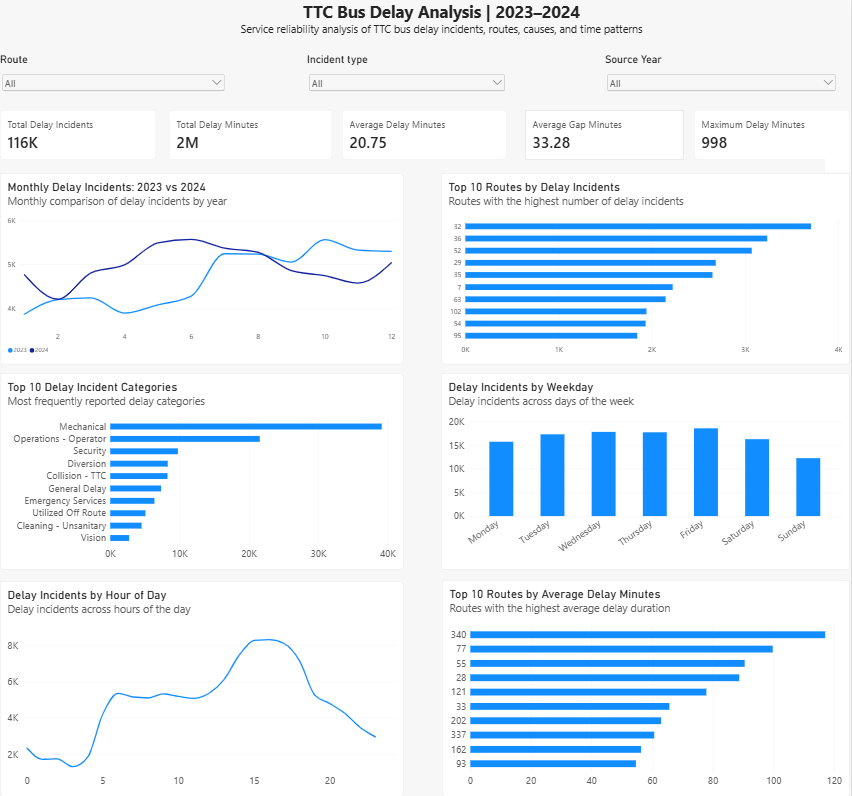

This screenshot's page, from the dashboard's own definition file:
{"tool":"powerbi","page":{"name":"Page 1","canvas":[1920,1800],"ordinal":0},"visuals":[{"type":"cardVisual","fields":{"Data":["ttc_bus_delays_2023_2024.Total Delay Incidents"]},"box":[0,248.4,352.3,112.9],"z":0},{"type":"cardVisual","fields":{"Data":["ttc_bus_delays_2023_2024.Total Delay Minutes"]},"box":[381.7,248.4,368.1,112.9],"z":1000},{"type":"cardVisual","fields":{"Data":["ttc_bus_delays_2023_2024.Average Delay Minutes"]},"box":[772.4,248.4,372.6,112.9],"z":2000},{"type":"cardVisual","fields":{"Data":["ttc_bus_delays_2023_2024.Average Gap Minutes"]},"box":[1185.7,248.4,359.1,112.9],"z":3000},{"type":"cardVisual","fields":{"Data":["ttc_bus_delays_2023_2024.Maximum Delay Minutes"]},"box":[1567.4,248.4,352.3,112.9],"z":4000},{"type":"lineChart","title":"Monthly Delay Incidents: 2023 vs 2024","fields":{"Category":["ttc_bus_delays_2023_2024.month"],"Series":["ttc_bus_delays_2023_2024.source_year"],"Y":["ttc_bus_delays_2023_2024.Total Delay Incidents"]},"box":[0,390.7,910.9,431.6],"z":5000},{"type":"clusteredBarChart","title":"Top 10 Routes by Delay Incidents","fields":{"Category":["ttc_bus_delays_2023_2024.route"],"Y":["ttc_bus_delays_2023_2024.Total Delay Incidents"]},"box":[996,390.7,923.5,431.6],"z":6000},{"type":"clusteredBarChart","title":"Top 10 Delay Incident Categories","fields":{"Category":["ttc_bus_delays_2023_2024.incident"],"Y":["ttc_bus_delays_2023_2024.Total Delay Incidents"]},"box":[0,842.4,910.9,444.2],"z":7000},{"type":"clusteredColumnChart","title":"Delay Incidents by Weekday","fields":{"Category":["ttc_bus_delays_2023_2024.weekday"],"Y":["ttc_bus_delays_2023_2024.Total Delay Incidents"]},"box":[996,842.4,923.5,444.2],"z":7001},{"type":"lineChart","title":"Delay Incidents by Hour of Day","fields":{"Category":["ttc_bus_delays_2023_2024.hour"],"Y":["ttc_bus_delays_2023_2024.Total Delay Incidents"]},"box":[0,1312.2,910.9,486.8],"z":7002},{"type":"clusteredBarChart","title":"Top 10 Routes by Average Delay Minutes","fields":{"Category":["ttc_bus_delays_2023_2024.route"],"Y":["ttc_bus_delays_2023_2024.Average Delay Minutes"]},"box":[998.2,1309.9,921,489.3],"z":7003},{"type":"slicer","title":"Source Year","fields":{"Values":["ttc_bus_delays_2023_2024.source_year"]},"box":[1366.4,119.7,526.3,108],"z":7004},{"type":"slicer","title":"Incident type","fields":{"Values":["ttc_bus_delays_2023_2024.incident"]},"box":[693.4,119.7,451.7,108.4],"z":7005},{"type":"slicer","title":"Route","fields":{"Values":["ttc_bus_delays_2023_2024.route"]},"box":[0,119.7,511.9,108.8],"z":7006},{"type":"textbox","box":[438.1,0,1117.9,85.8],"z":7007}]}

Visuals, with their boxes in screenshot pixels (x1, y1, x2, y2), scaled from the page's 1920x1800 canvas onto the 852x796 screenshot:
cardVisual - ttc_bus_delays_2023_2024.Total Delay Incidents: l=0, t=110, r=156, b=160
cardVisual - ttc_bus_delays_2023_2024.Total Delay Minutes: l=169, t=110, r=333, b=160
cardVisual - ttc_bus_delays_2023_2024.Average Delay Minutes: l=343, t=110, r=508, b=160
cardVisual - ttc_bus_delays_2023_2024.Average Gap Minutes: l=526, t=110, r=686, b=160
cardVisual - ttc_bus_delays_2023_2024.Maximum Delay Minutes: l=696, t=110, r=851, b=160
"Monthly Delay Incidents: 2023 vs 2024" lineChart: l=0, t=173, r=404, b=364
"Top 10 Routes by Delay Incidents" clusteredBarChart: l=442, t=173, r=851, b=364
"Top 10 Delay Incident Categories" clusteredBarChart: l=0, t=373, r=404, b=569
"Delay Incidents by Weekday" clusteredColumnChart: l=442, t=373, r=851, b=569
"Delay Incidents by Hour of Day" lineChart: l=0, t=580, r=404, b=795
"Top 10 Routes by Average Delay Minutes" clusteredBarChart: l=443, t=579, r=851, b=795
"Source Year" slicer: l=606, t=53, r=840, b=101
"Incident type" slicer: l=308, t=53, r=508, b=101
"Route" slicer: l=0, t=53, r=227, b=101
textbox: l=194, t=0, r=690, b=38
